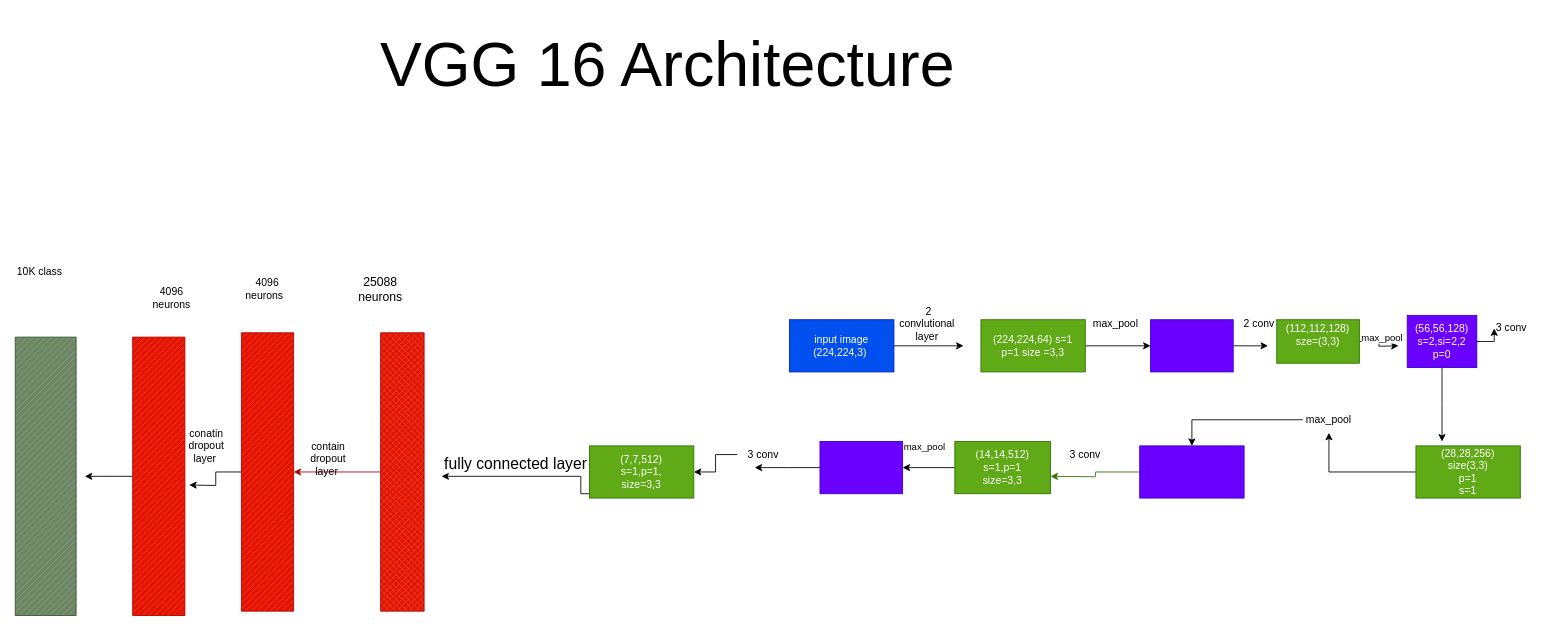
Some shapes in this 1553 by 631 pixel diagram are drawn without their labels. The centre of each missing label's shape, as x and y in pixels:
(112,112,64) s=2,size =(2,2) p=0: point 1191,345
(14,14,256) size=2,2 s=2,p=0: point 1191,471
(7,7,512) s=2,p=0, size=2,2: point 861,467
